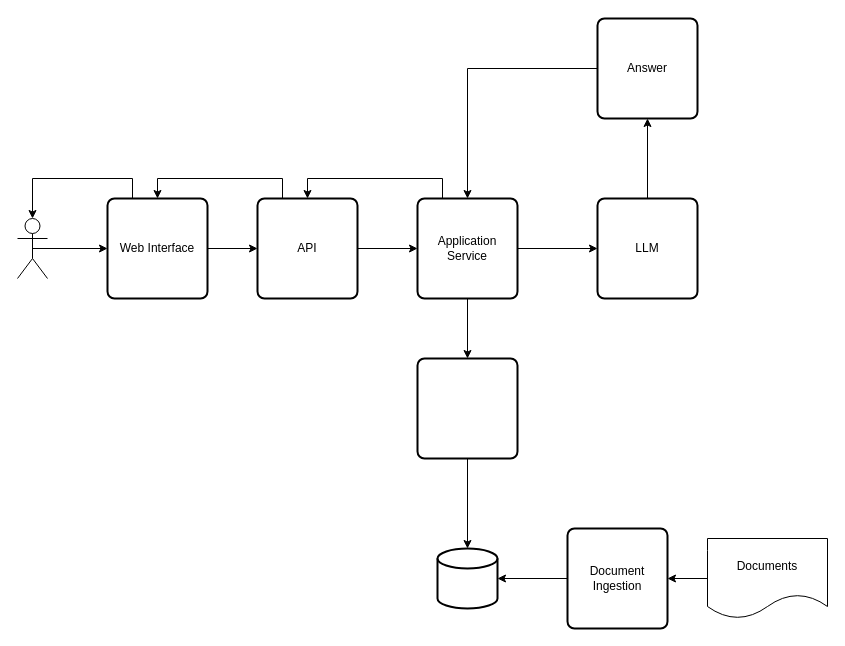
Image size: 845x646. Some labels were removed from this diagram. Each missing label, with the centre of its shape:
"Retriever" goes at (467,408).
"User" goes at (32,248).
"Vector Store" goes at (467,578).
